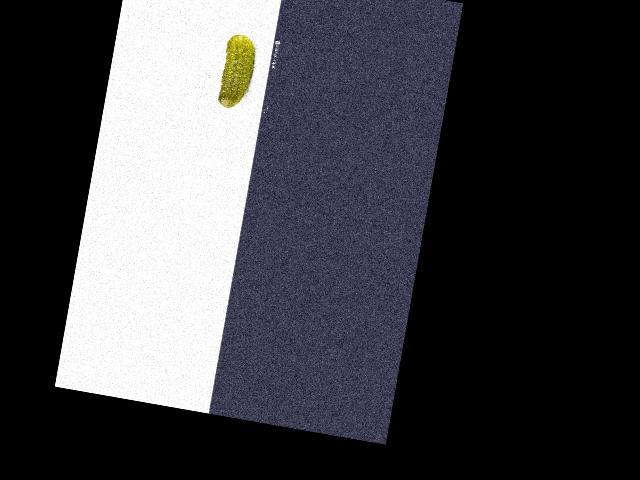cucumber: (216, 32, 258, 111)
